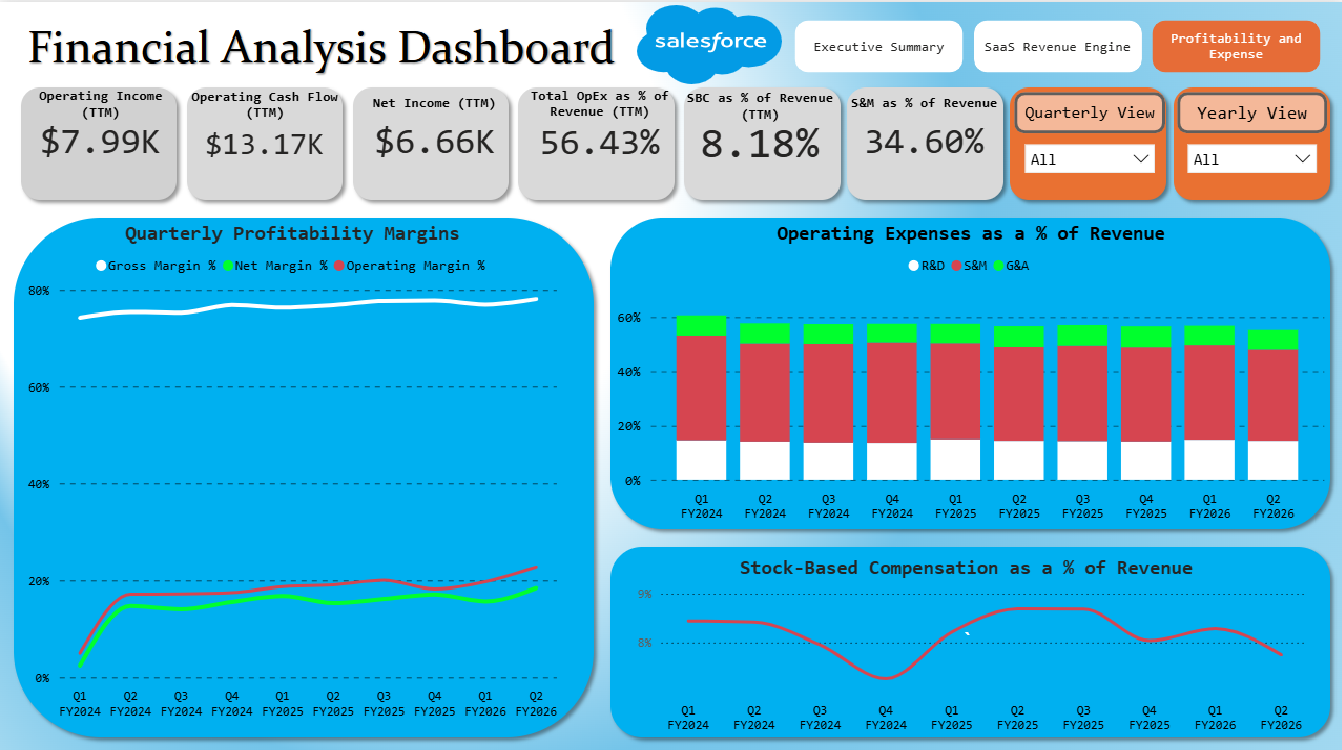

This screenshot's page, from the dashboard's own definition file:
{"tool":"powerbi","page":{"name":"Profitability and Expense","canvas":[1280,720],"ordinal":2},"visuals":[{"type":"columnChart","title":"Operating Expenses as a % of Revenue","fields":{"Category":["Qdata.Period"],"Y":["Sum(Qdata.rd_expense_adj)","Sum(Qdata.sm_expense_adj)","Sum(Qdata.ga_expense_adj)"]},"box":[583.9,211.1,682.8,295.6],"z":0},{"type":"lineChart","title":"Stock-Based Compensation as a % of Revenue","fields":{"Category":["Qdata.Period"],"Y":["Qdata.SBC as a % of Revenue"]},"box":[586.3,532,668.4,177.3],"z":1000},{"type":"pageNavigator","box":[757.5,17.5,500,50],"z":2000},{"type":"lineChart","title":"Quarterly Profitability Margins","fields":{"Category":["Qdata.Period"],"Y":["Qdata.Gross Margin %","Qdata.Net Margin %","Qdata.Operating Margin %"]},"box":[20.5,211.1,518.8,485],"z":3000},{"type":"card","fields":{"Values":["Qdata.Net Income (TTM)"]},"box":[352.3,107.4,125.5,49.5],"z":4000},{"type":"card","fields":{"Values":["Qdata.Operating Cash Flow (TTM)"]},"box":[190.5,111,126.1,49.2],"z":5000},{"type":"card","fields":{"Values":["Qdata.Operating Income (TTM)"]},"box":[34.1,107.2,126.1,49.2],"z":6000},{"type":"card","fields":{"Values":["Qdata.Total OpEx as % of Revenue (TTM)"]},"box":[508.3,108.5,126.1,49.2],"z":7000},{"type":"card","fields":{"Values":["Qdata.Stock-Based Comp as % of Revenue (TTM)"]},"box":[660.9,107.2,126.1,49.2],"z":8000},{"type":"card","fields":{"Values":["Qdata.S&M as % of Revenue (TTM)"]},"box":[817.3,107.2,126.1,49.2],"z":9000},{"type":"shape","box":[18.8,80,156.2,35.6],"z":10000},{"type":"shape","box":[175.3,79.5,156.4,36.6],"z":11000},{"type":"shape","box":[336.8,78.2,156.4,36.6],"z":12000},{"type":"shape","box":[493.2,78.2,156.4,36.6],"z":13000},{"type":"shape","box":[645.8,80.7,156.4,36.6],"z":14000},{"type":"shape","box":[802.2,78.2,156.4,36.6],"z":15000},{"type":"actionButton","box":[966.2,86.2,143.8,40],"z":16000},{"type":"actionButton","box":[1121.2,86.2,143,40],"z":17000},{"type":"slicer","fields":{"Values":["Qdata.Period"]},"box":[966.2,126.2,143.8,47.5],"z":18000},{"type":"slicer","fields":{"Values":["FYdata.Period"]},"box":[1121.2,126.2,142.5,47.5],"z":19000}]}

Visuals, with their boxes in screenshot pixels (x1, y1, x2, y2), scaled from the page's 1280x720 canvas onto the 1342x750 screenshot:
"Operating Expenses as a % of Revenue" columnChart: 612:220:1328:528
"Stock-Based Compensation as a % of Revenue" lineChart: 615:554:1315:739
pageNavigator: 794:18:1318:70
"Quarterly Profitability Margins" lineChart: 21:220:565:725
card - Qdata.Net Income (TTM): 369:112:501:163
card - Qdata.Operating Cash Flow (TTM): 200:116:332:167
card - Qdata.Operating Income (TTM): 36:112:168:163
card - Qdata.Total OpEx as % of Revenue (TTM): 533:113:665:164
card - Qdata.Stock-Based Comp as % of Revenue (TTM): 693:112:825:163
card - Qdata.S&M as % of Revenue (TTM): 857:112:989:163
shape: 20:83:183:120
shape: 184:83:348:121
shape: 353:81:517:120
shape: 517:81:681:120
shape: 677:84:841:122
shape: 841:81:1005:120
actionButton: 1013:90:1164:131
actionButton: 1176:90:1325:131
slicer - Qdata.Period: 1013:131:1164:181
slicer - FYdata.Period: 1176:131:1325:181
